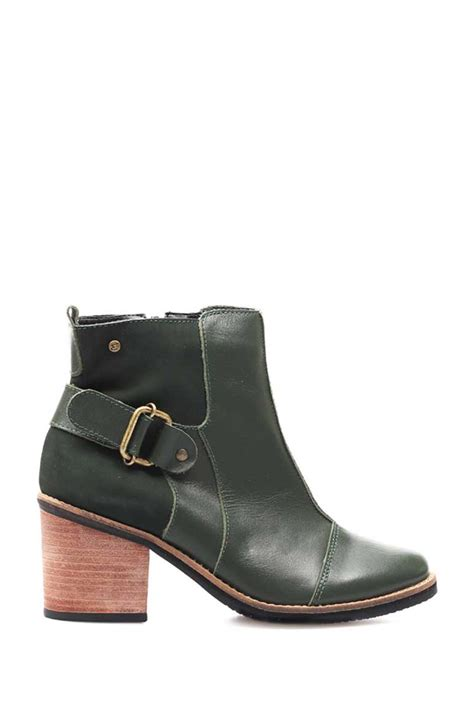cuero: (38, 305, 430, 613)
